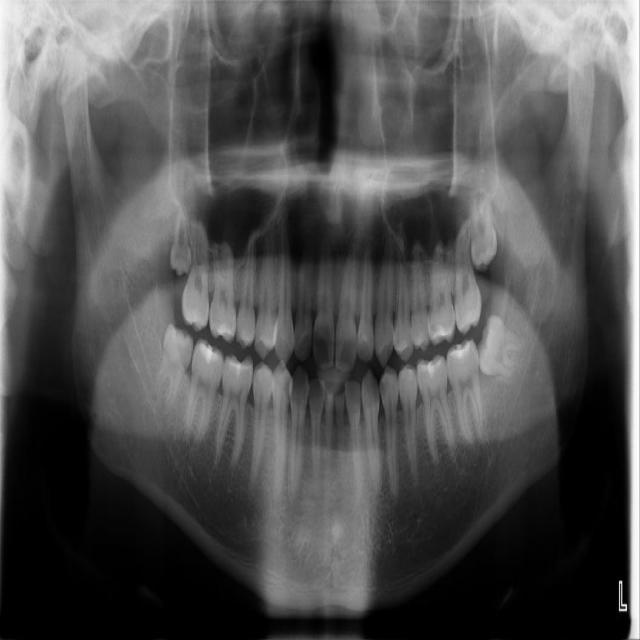3M ESPE Implant: (170, 205, 191, 276)
52: (441, 335, 485, 391), (185, 336, 230, 388), (411, 352, 454, 400), (218, 352, 255, 394)
73: (616, 585, 629, 611)
BioHorizons Implant: (454, 222, 483, 336)
BioLife Implant: (468, 193, 498, 270)
Biomet 3i Implant: (470, 311, 530, 384)
Blue Sky Bio Implant: (443, 336, 486, 446)
Caries: (181, 219, 210, 333)
Implant: (181, 337, 228, 446)
Keystone Dental Implant: (152, 321, 198, 409)
